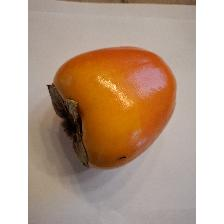Kaki: (44, 43, 180, 176)
